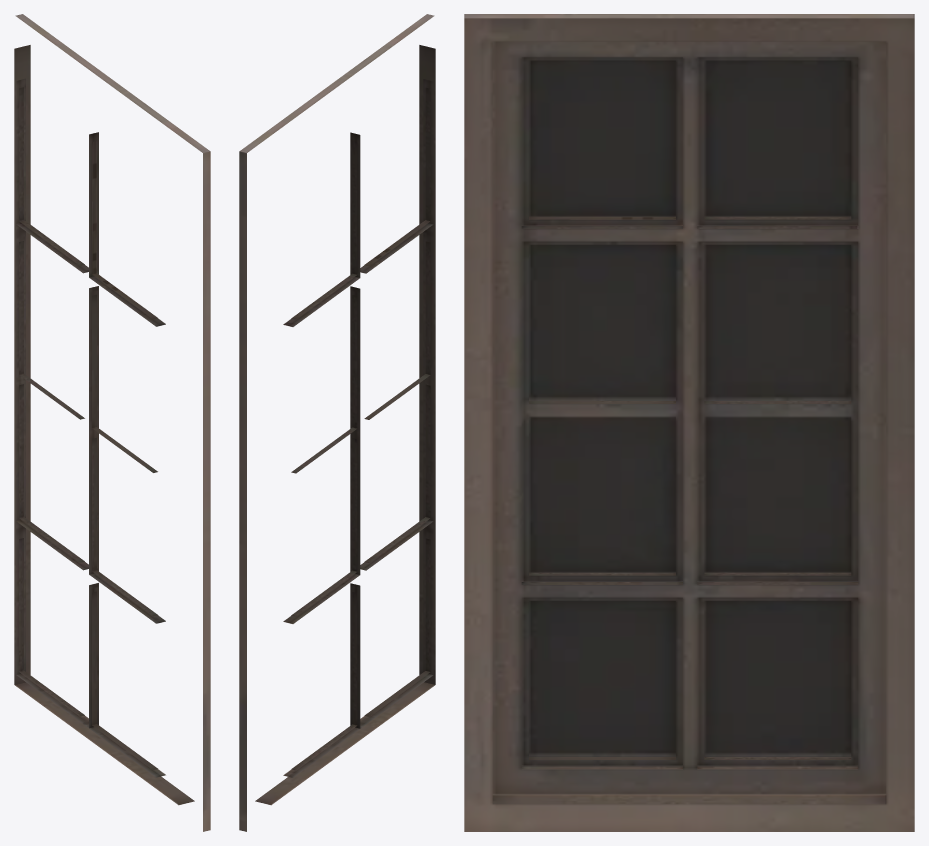
The picture shows the model from 3 angles, left to right: view 1: azimuth 30°, elevation 25°; view 2: azimuth 150°, elevation 25°; view 3: azimuth 270°, elevation 25°; orthographic projection. The views are drawn at different scales.
Parts seen in each view (by area): view 1: body0_model0_lod0_mesh0; view 2: body0_model0_lod0_mesh0; view 3: body0_model0_lod0_mesh0.
Part boxes in pixels (x1,y1,x2,y2): body0_model0_lod0_mesh0: (14,14,210,831); body0_model0_lod0_mesh0: (239,14,435,831); body0_model0_lod0_mesh0: (464,14,914,831).
Bounding box in the file's own units: 6 × 128 × 64.18.
Materials: 1 (1 with a texture image).
